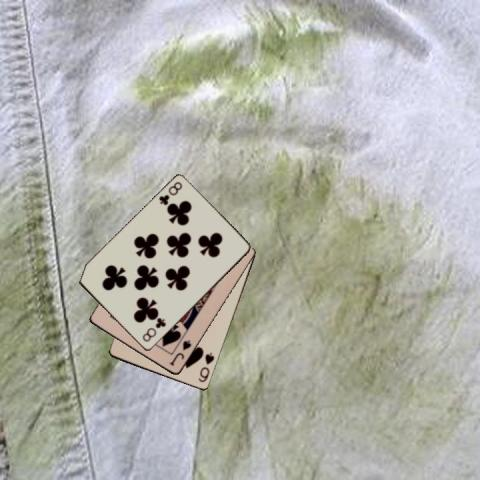6s: (195, 350, 216, 384)
8c: (139, 316, 168, 344), (156, 178, 183, 206)
Js: (166, 338, 192, 368)
